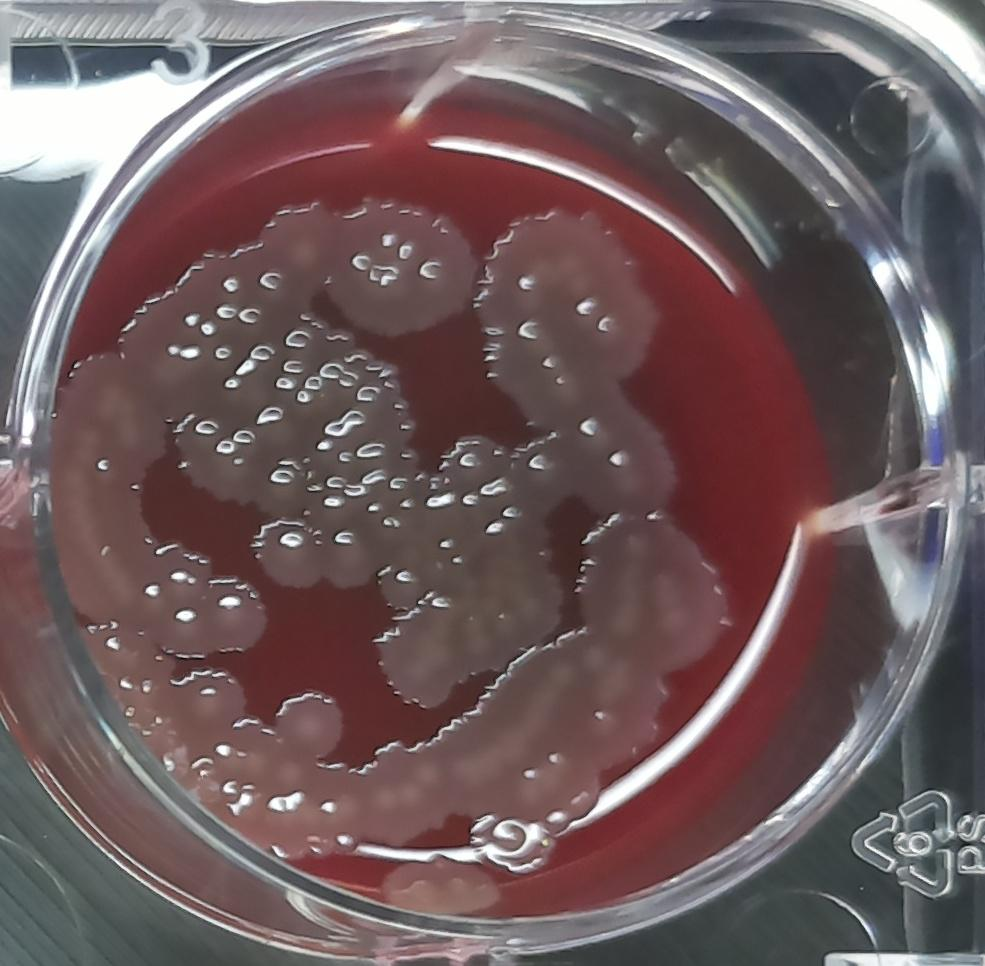vproteolyticus: (29, 338, 174, 627), (472, 205, 661, 400), (571, 513, 731, 675), (326, 191, 474, 340), (462, 503, 564, 658), (556, 401, 688, 512), (163, 408, 254, 511), (374, 611, 460, 714), (256, 195, 332, 306), (195, 574, 275, 658), (171, 661, 250, 741), (247, 515, 326, 594), (271, 687, 350, 762), (439, 424, 509, 489), (321, 525, 384, 595)
